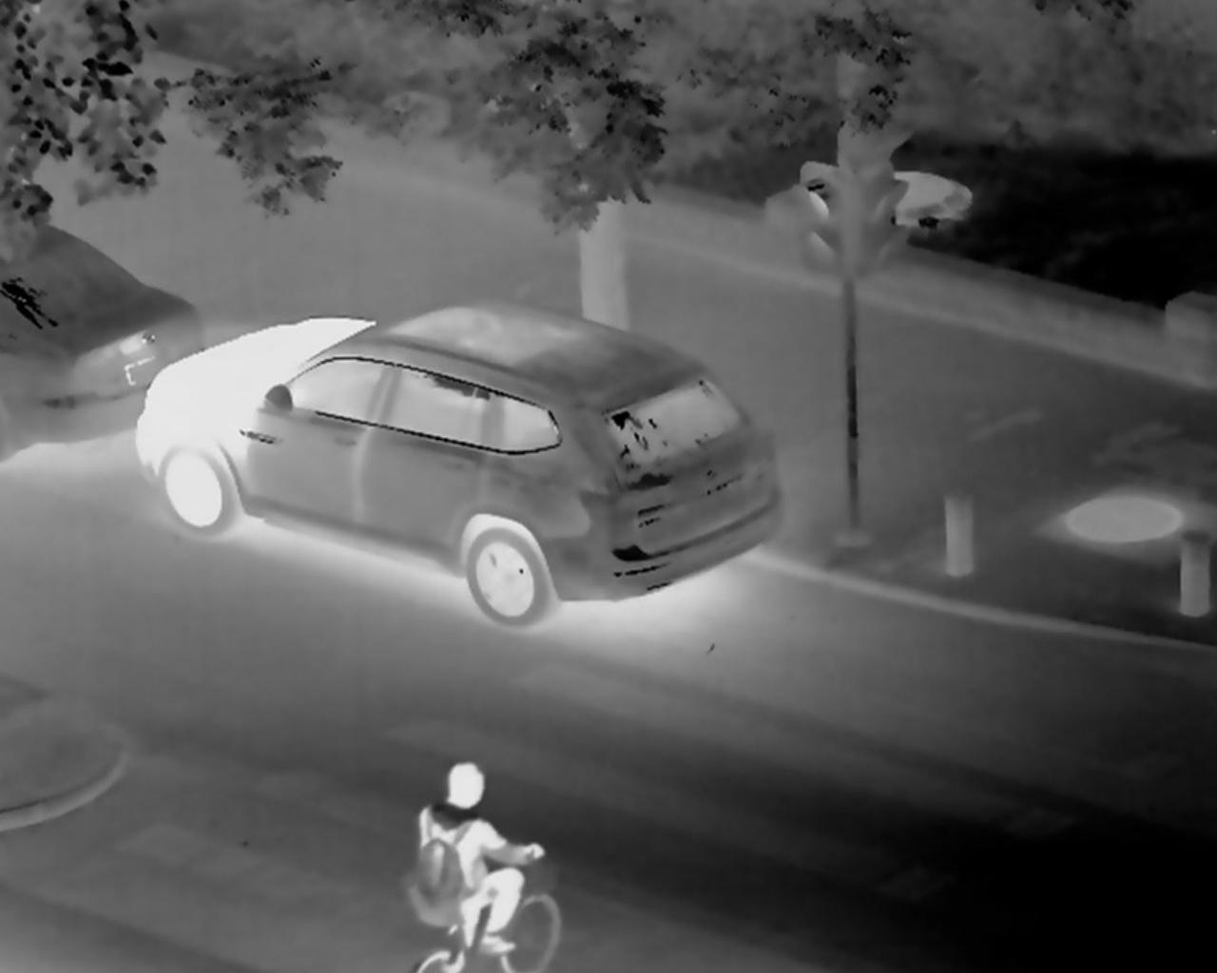person: (412, 738, 582, 972)
